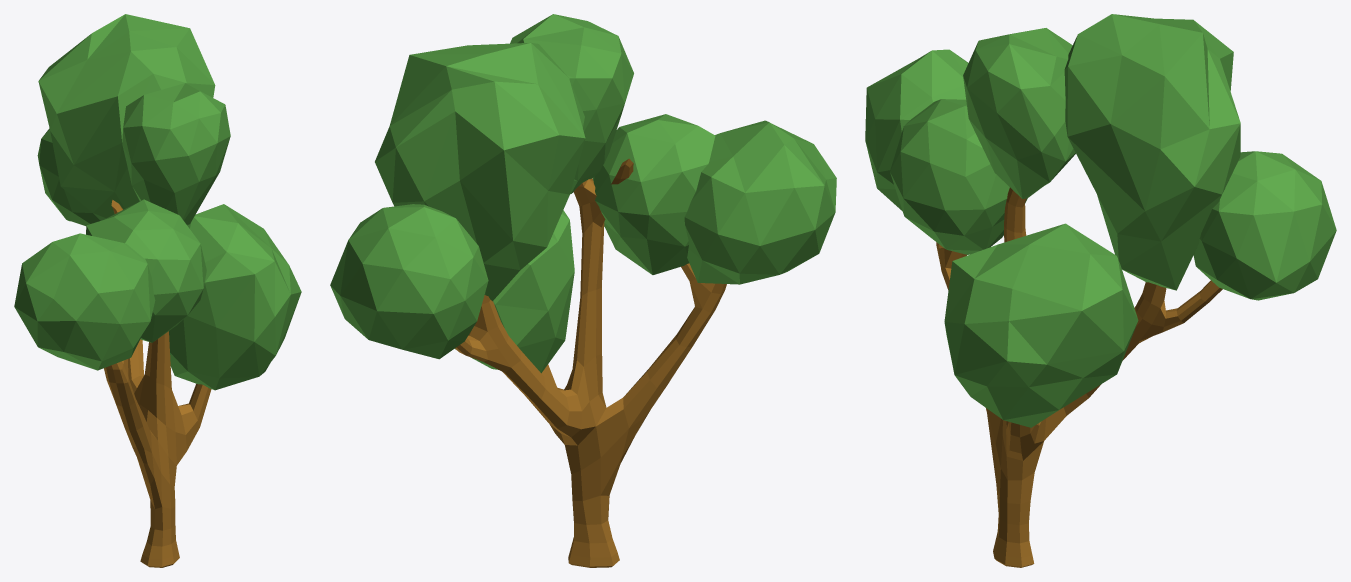
The model's file is Tree_3.fbx.
The picture shows the model from 3 angles, left to right: view 1: azimuth 30°, elevation 25°; view 2: azimuth 150°, elevation 25°; view 3: azimuth 270°, elevation 25°; orthographic projection. The views are drawn at different scales.
Visible parts, largest first — view 1: Leaves, Tree_3; view 2: Leaves, Tree_3; view 3: Leaves, Tree_3.
Boxes of the visible parts, x1,y1,x2,y2 form: Leaves: (14,14,301,390); Tree_3: (104,200,211,567); Leaves: (330,14,836,373); Tree_3: (455,158,726,567); Leaves: (865,14,1336,427); Tree_3: (936,187,1222,567).
Bounding box in the file's own units: 752 × 1116 × 864.
